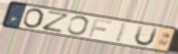F: (87, 18, 114, 38)
I: (113, 21, 129, 44)
O: (66, 15, 90, 37), (21, 8, 46, 29)
U: (133, 24, 161, 47)
Z: (41, 10, 72, 34)
